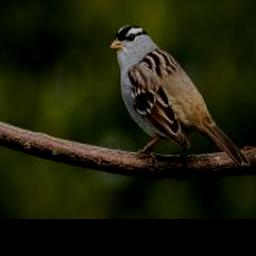Sparrow: (109, 23, 250, 170)
